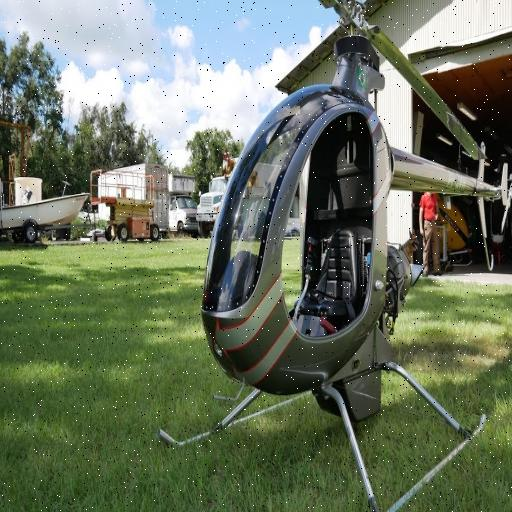helicopter: (129, 1, 495, 512)
